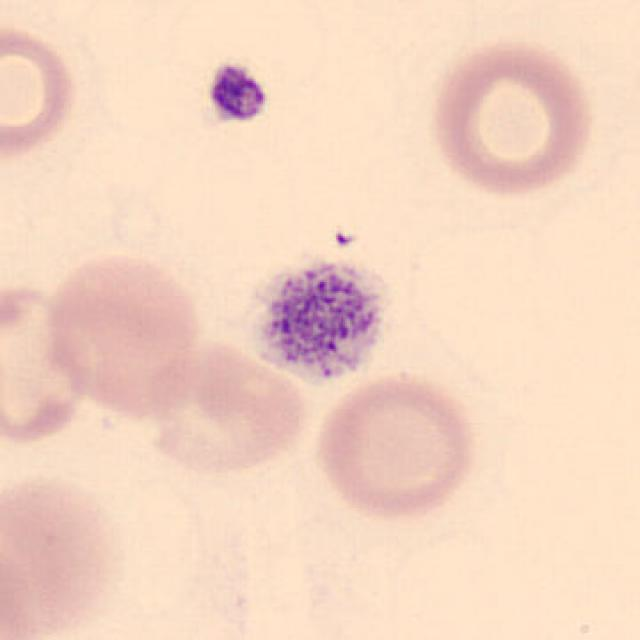Platelets: (247, 252, 393, 392), (203, 62, 270, 125)
RBC: (39, 247, 208, 425), (423, 33, 601, 201), (307, 366, 483, 524), (137, 335, 313, 481), (0, 467, 126, 640), (0, 275, 94, 450), (0, 16, 82, 167)
